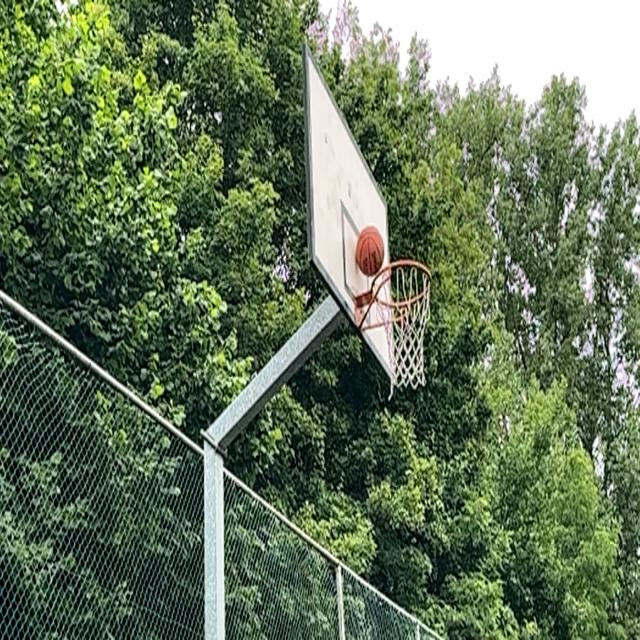rebound_hit: (354, 225, 384, 278)
